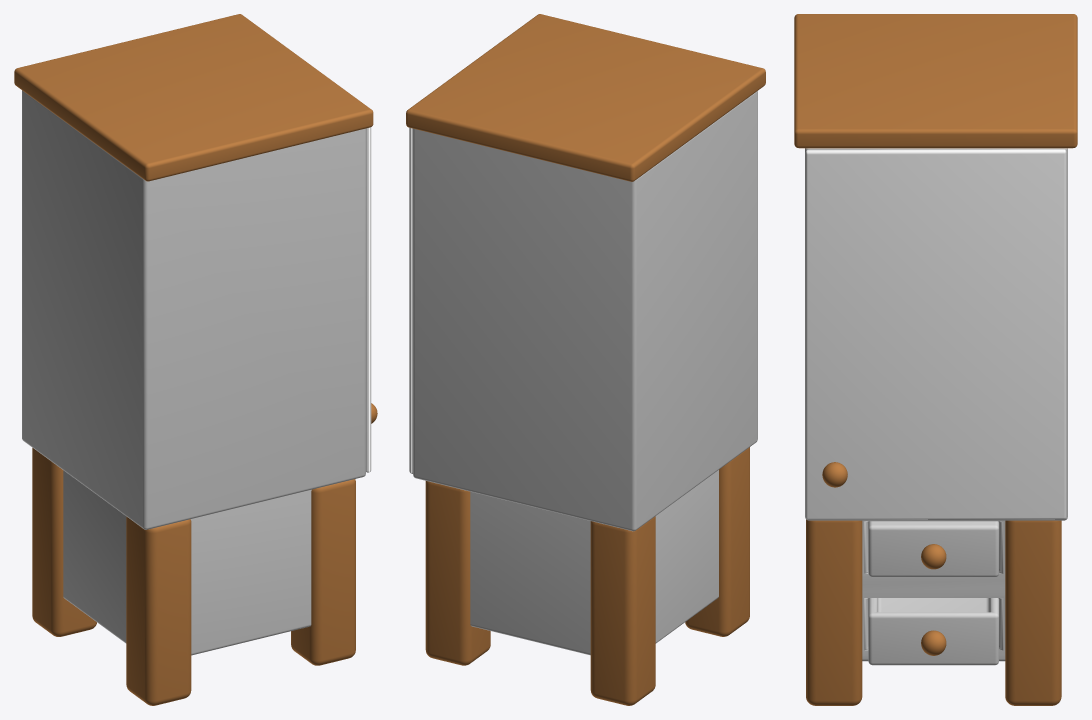
The model's file is simple_library_B.obj.
3 renders of one model, left to right at view 1: azimuth 30°, elevation 25°; view 2: azimuth 150°, elevation 25°; view 3: azimuth 270°, elevation 25°, orthographic. The views are drawn at different scales.
Visible parts, largest first — view 1: simple_library_B; view 2: simple_library_B; view 3: simple_library_B.
Boxes of the visible parts, x1,y1,x2,y2 form: simple_library_B: (14,14,377,705); simple_library_B: (406,14,765,705); simple_library_B: (794,14,1077,705).
Size of the model in its own units: 0.7281 by 1.47 by 0.6471.
